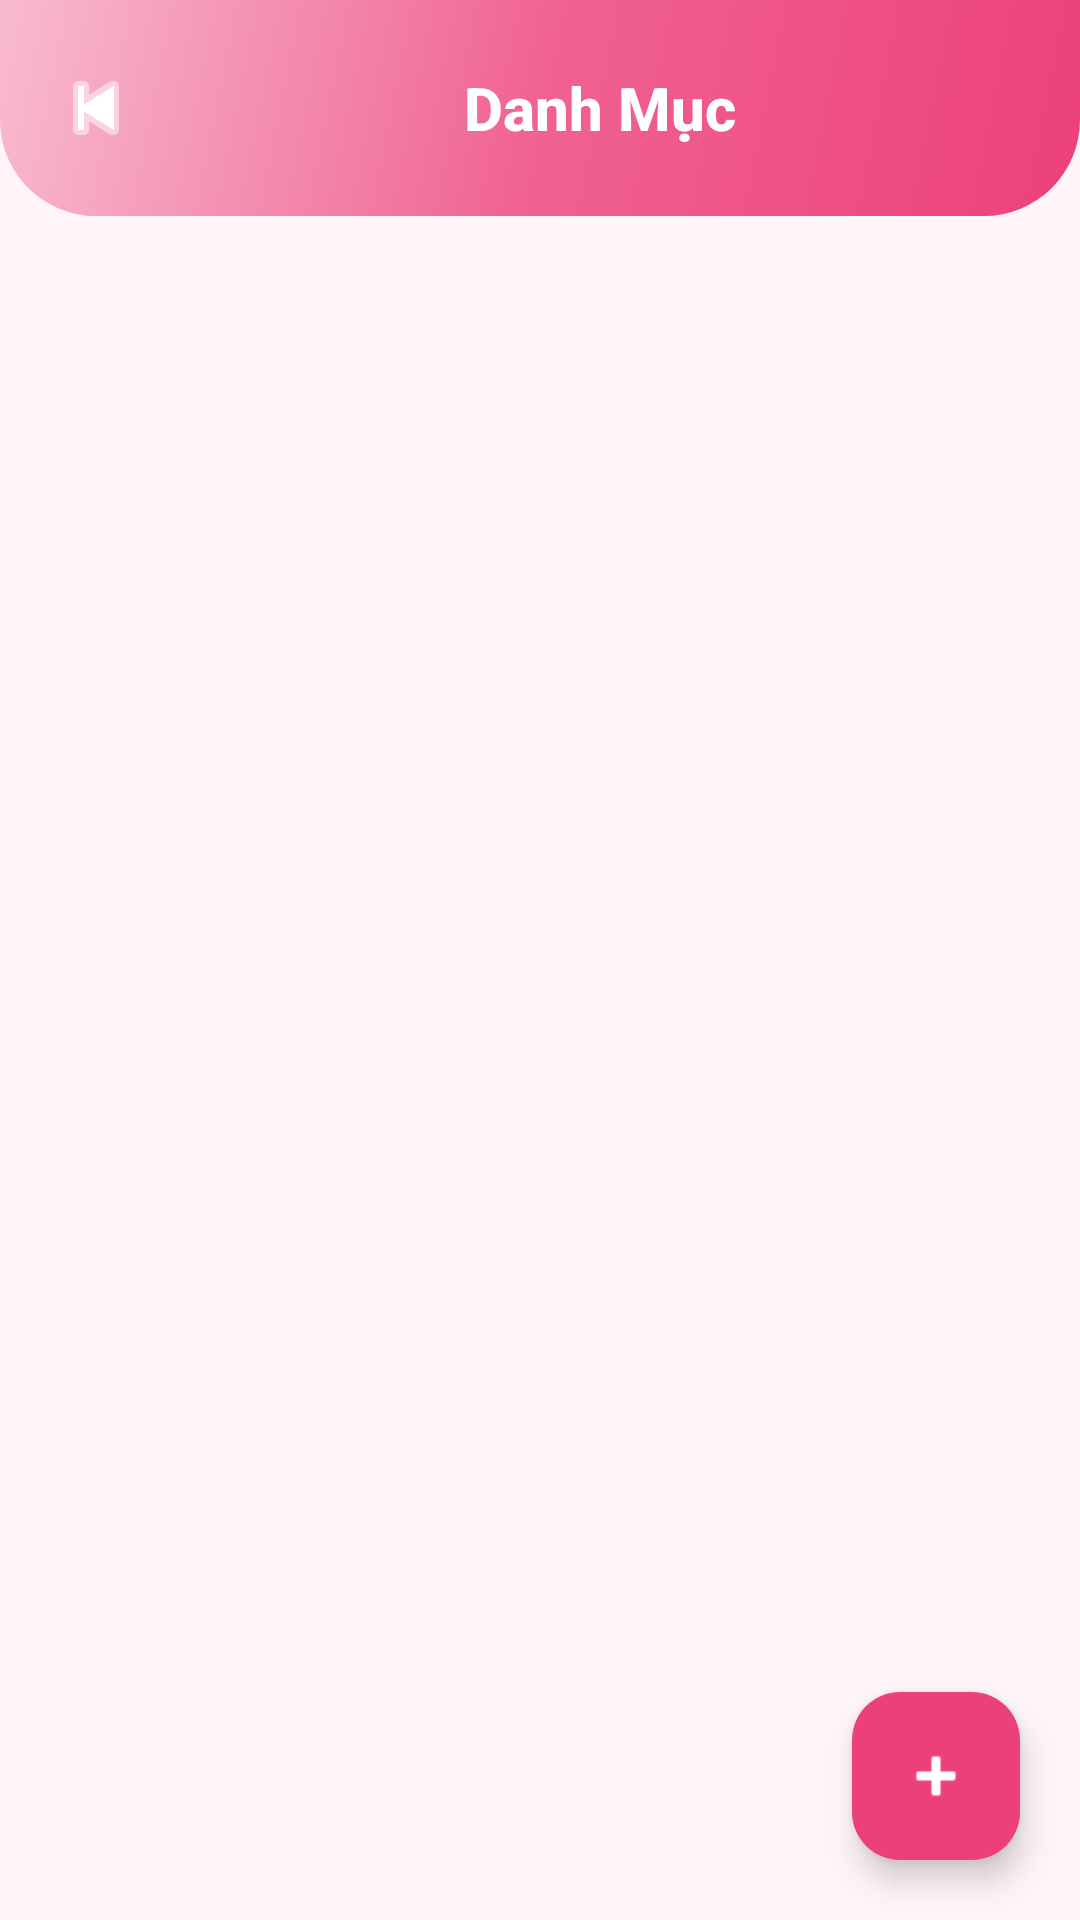

Icon click points for this 1080 × 1920 phone screenshot, format (x=x, y=y):
Add category: (x=936, y=1776)
